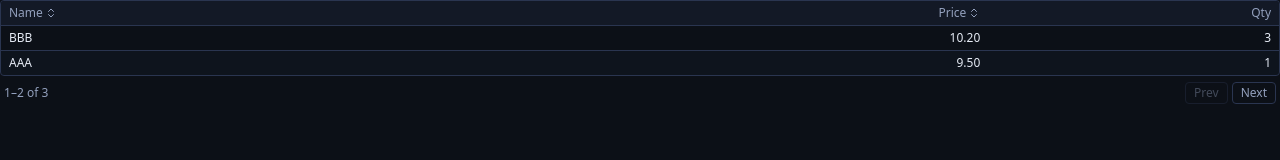
DataTable › paginates with range text and Prev/Next bounds
expect the text "1–2 of 3" is shown: met, box [4,85,48,101]
expect the button "Prev" is disabled: met, box [1185,82,1228,104]
Step 1. Click the button "Next" → {"x": 1254, "y": 93}, box [1232,82,1276,104]
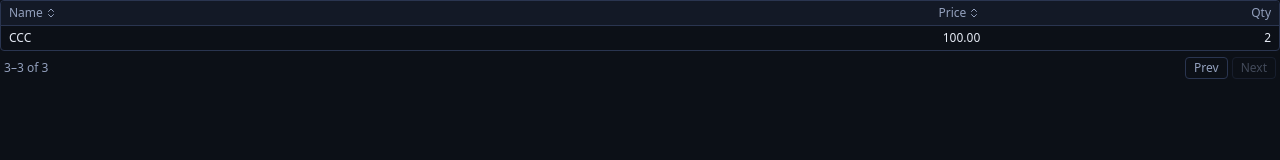
expect the text "3–3 of 3" is shown: met, box [4,60,48,76]
expect the button "Next" is disabled: met, box [1232,57,1276,79]
